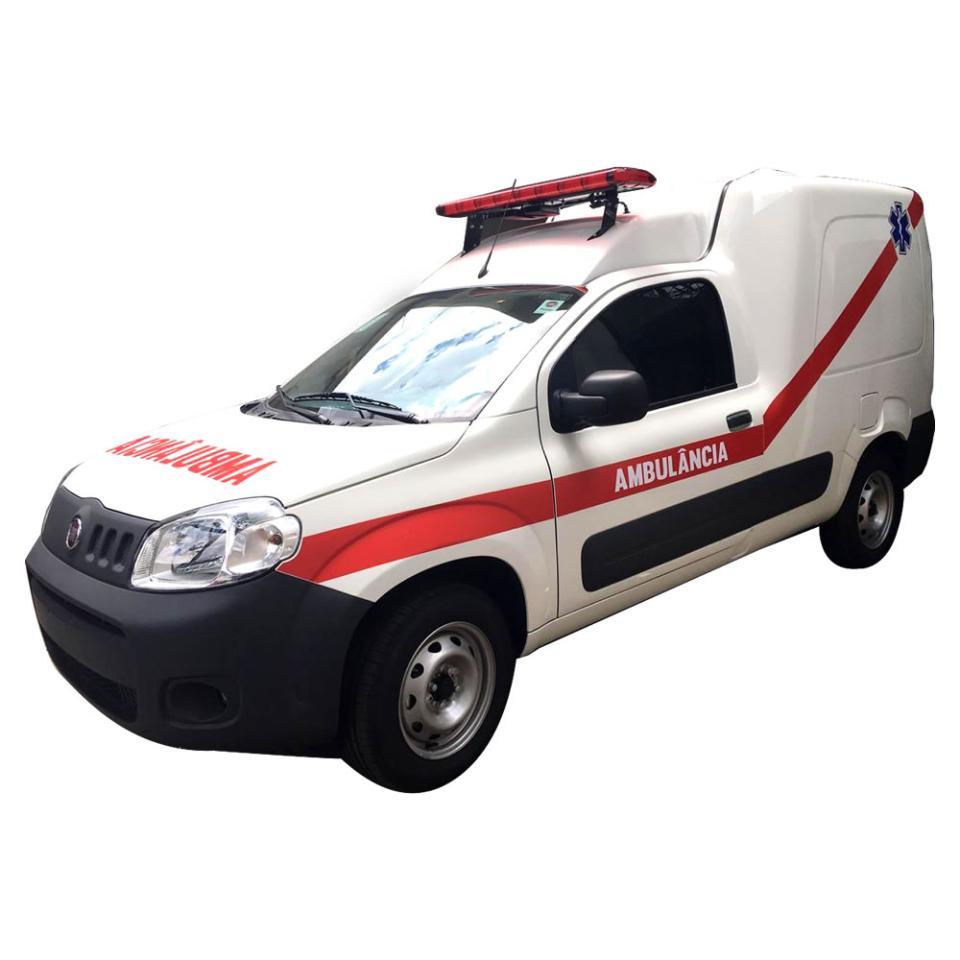bombeiro: (24, 166, 936, 795)
